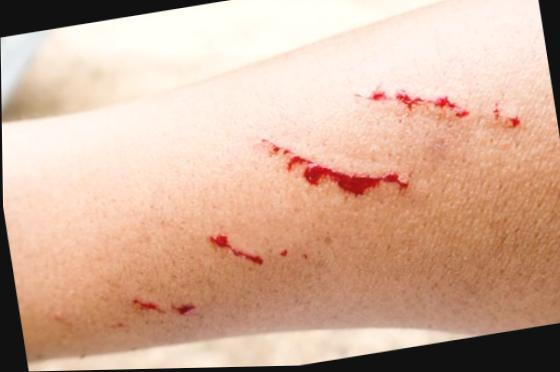Fire: (262, 140, 408, 197), (355, 88, 478, 122), (209, 237, 263, 266), (131, 299, 195, 318), (493, 105, 523, 131)
